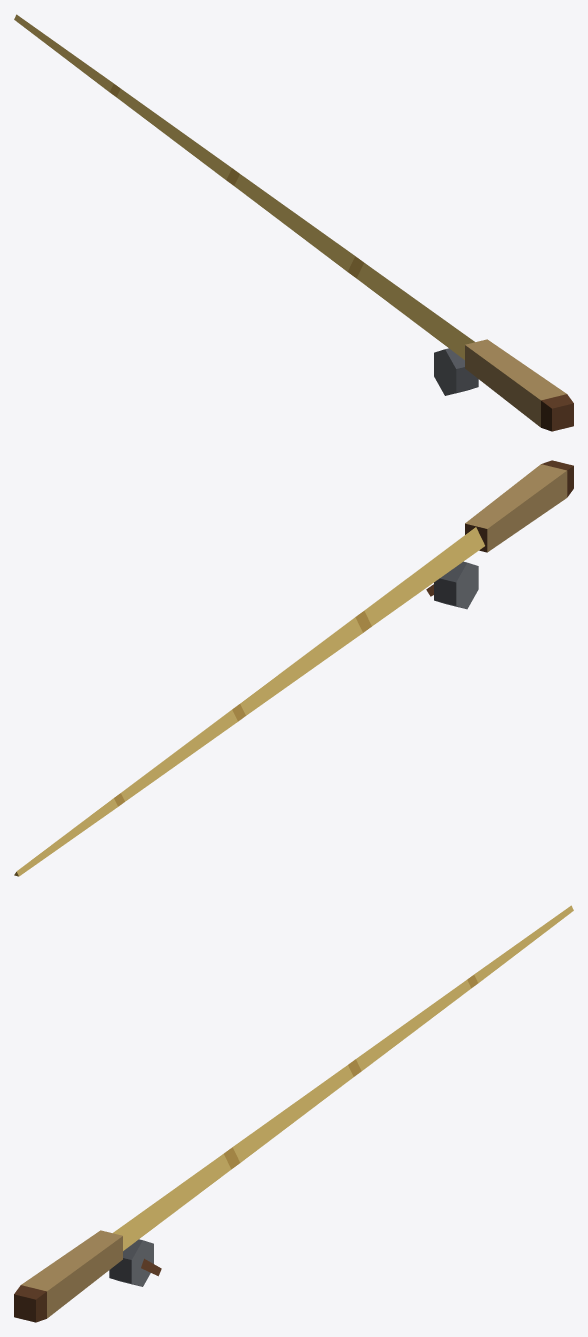
The model's file is fishing_rod.glb.
3 views of the same model, one above another, from view 1: azimuth 30°, elevation 25°; view 2: azimuth 150°, elevation 25°; view 3: azimuth 330°, elevation 25° (orthographic).
Visible parts, largest first — view 1: fishing_rod; view 2: fishing_rod; view 3: fishing_rod.
Boxes of the visible parts, x1=… form: fishing_rod: x1=14, y1=14, x2=573, y2=431; fishing_rod: x1=14, y1=460, x2=573, y2=876; fishing_rod: x1=14, y1=905, x2=573, y2=1322.
Bounding box in the file's own units: 0.0423 × 0.0752 × 1.1.
